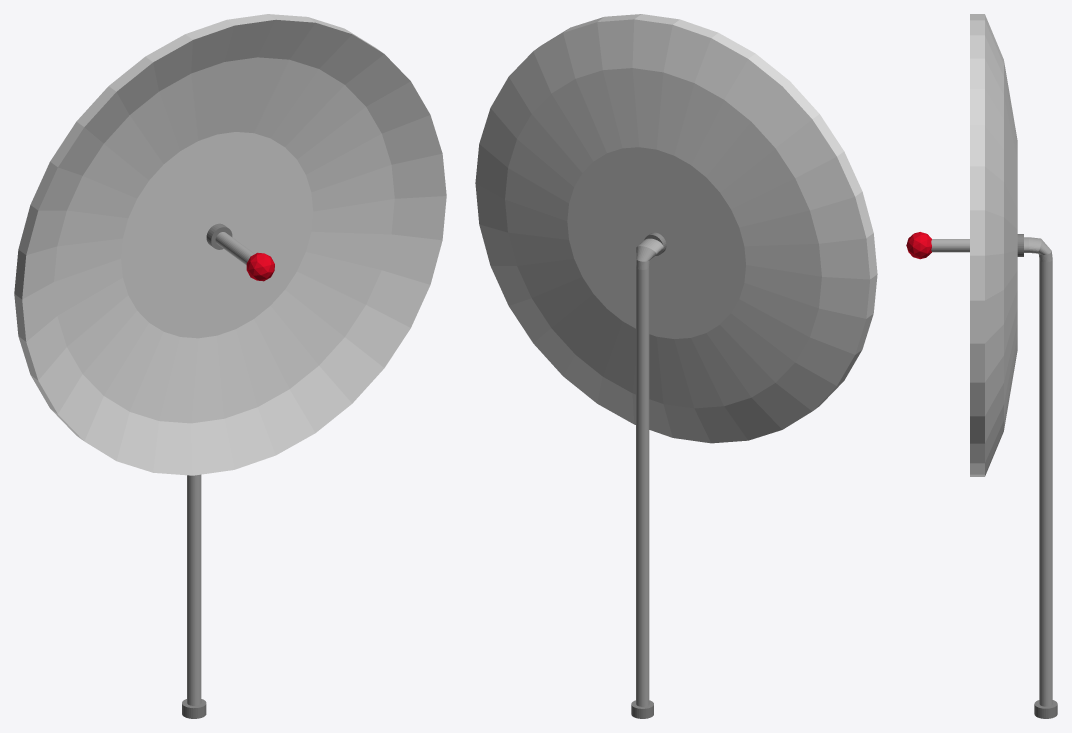
File: SM_ParabolicDish.fbx
3 renders of one model, left to right at view 1: azimuth 30°, elevation 25°; view 2: azimuth 150°, elevation 25°; view 3: azimuth 270°, elevation 25°, orthographic. The views are drawn at different scales.
Parts seen in each view (by area): view 1: Cylinder.001; view 2: Cylinder.001; view 3: Cylinder.001.
Boxes of the visible parts, box(x1,y1,x2,y2) form: Cylinder.001: box(14, 14, 446, 718); Cylinder.001: box(475, 14, 877, 718); Cylinder.001: box(906, 14, 1057, 718).
Size of the model in its own units: 200 by 323 by 65.27.
